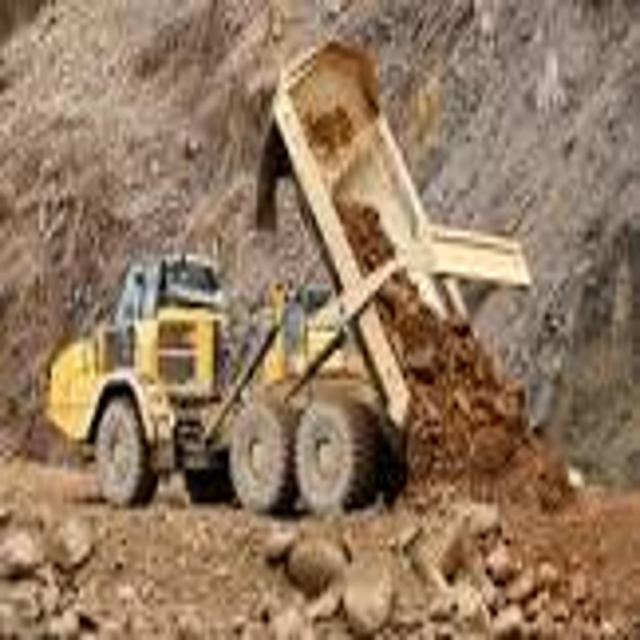dump_truck: (39, 36, 558, 521)
